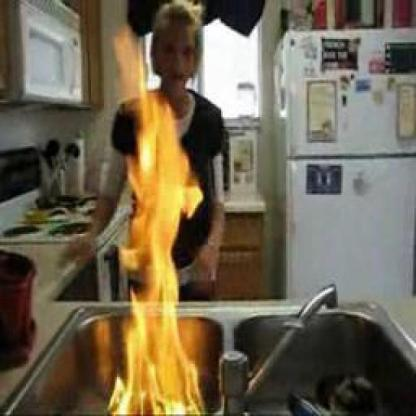fire: (115, 48, 202, 416)
